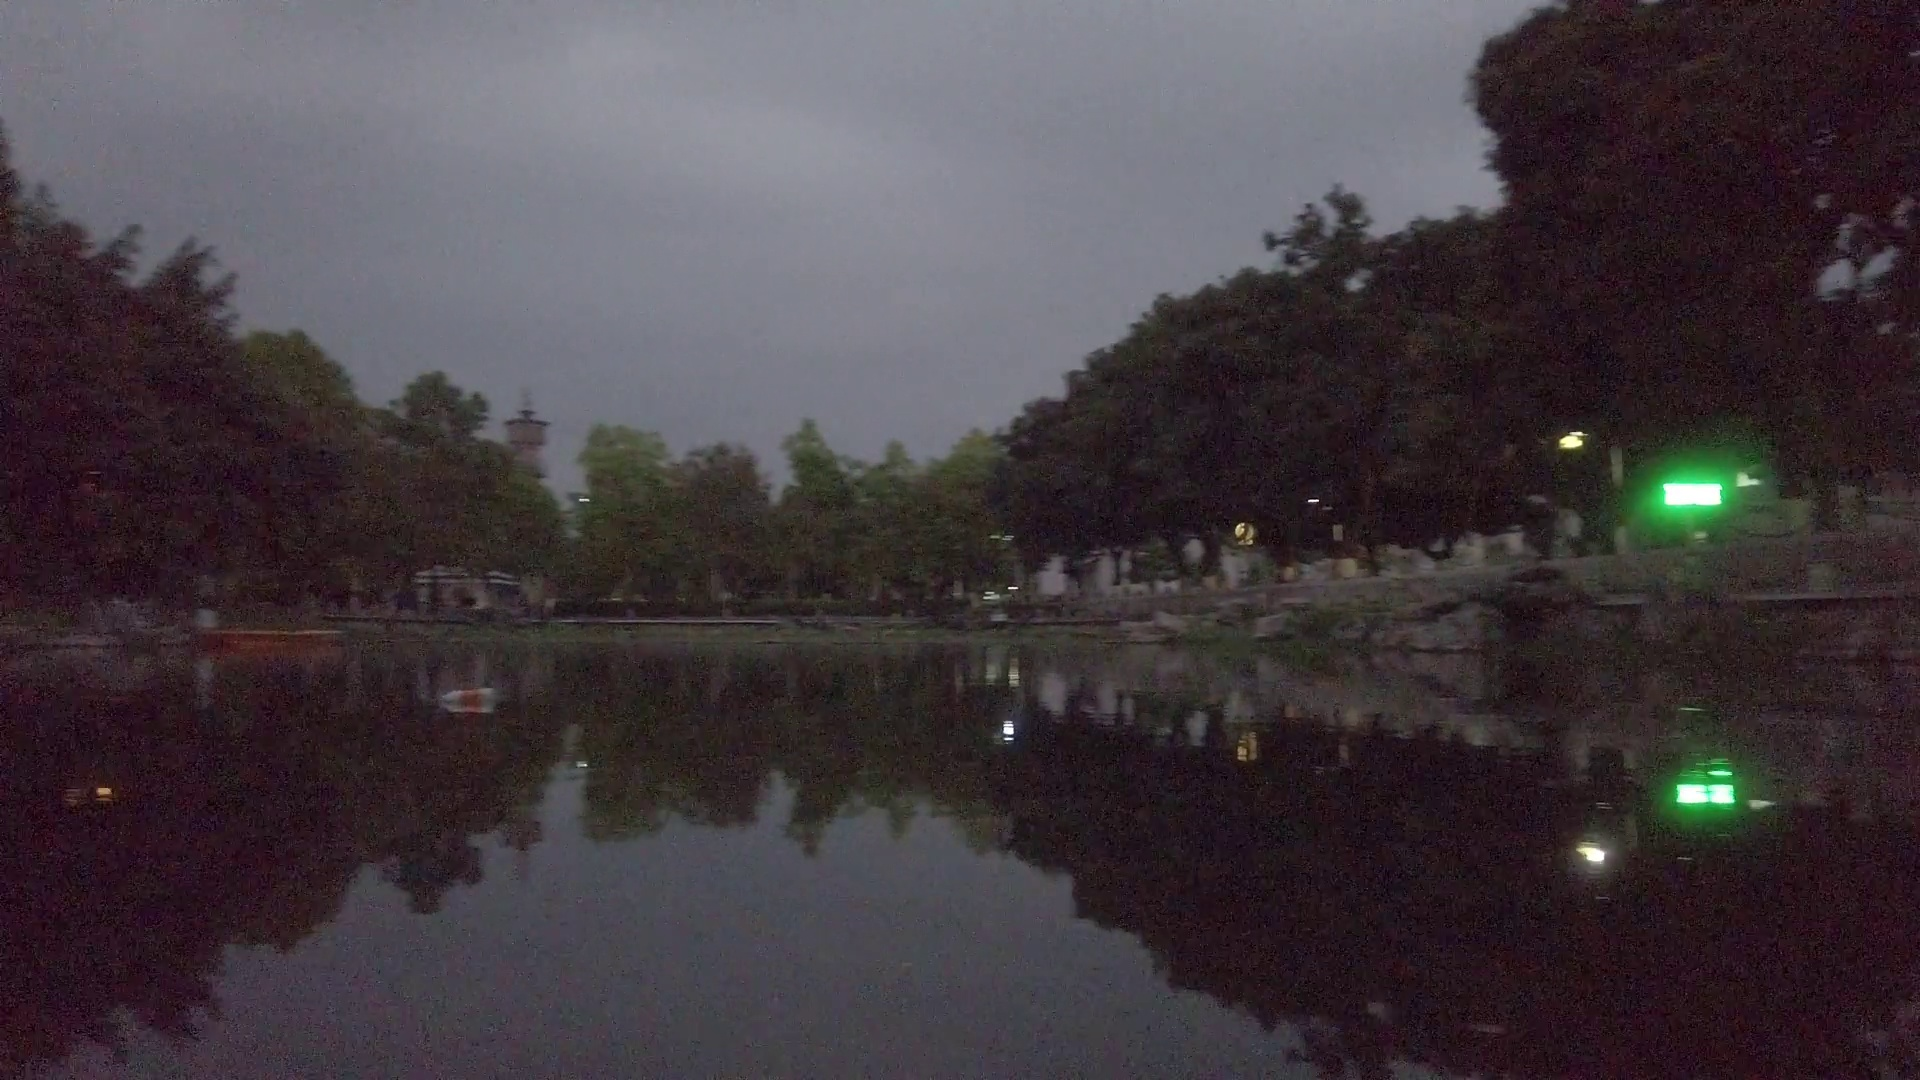bottle: (439, 686, 495, 709)
